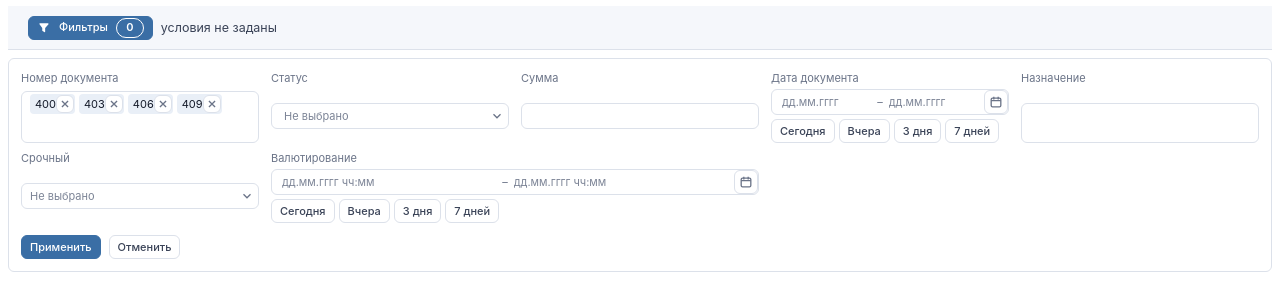
Test case: FilterPanel: контролы по типам › список номеров вставкой — IN, чип «в списке … и ещё N»
What coordinates should you click on to do the following:
click the button "Применить"
I would click on:
 (61, 247)
Its box is [21,235,101,259].
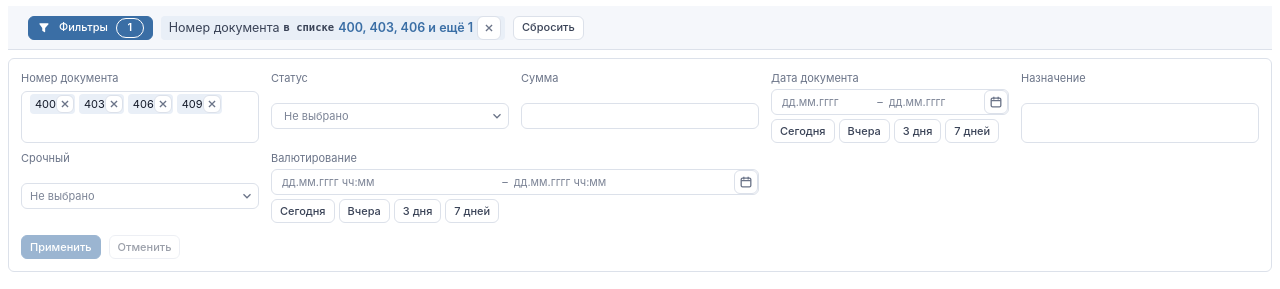
Result: the list named "Применённые условия" shows "400, 403, 406 и ещё 1" at [338,20,473,35]
